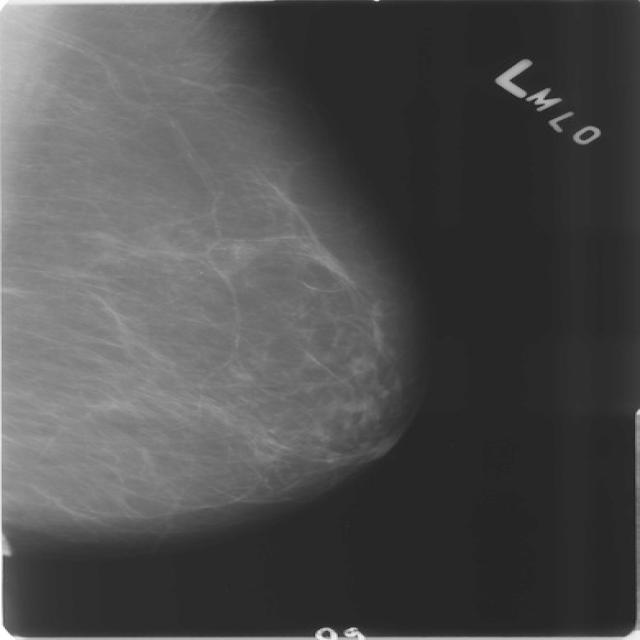tumour: (222, 240, 256, 273)
